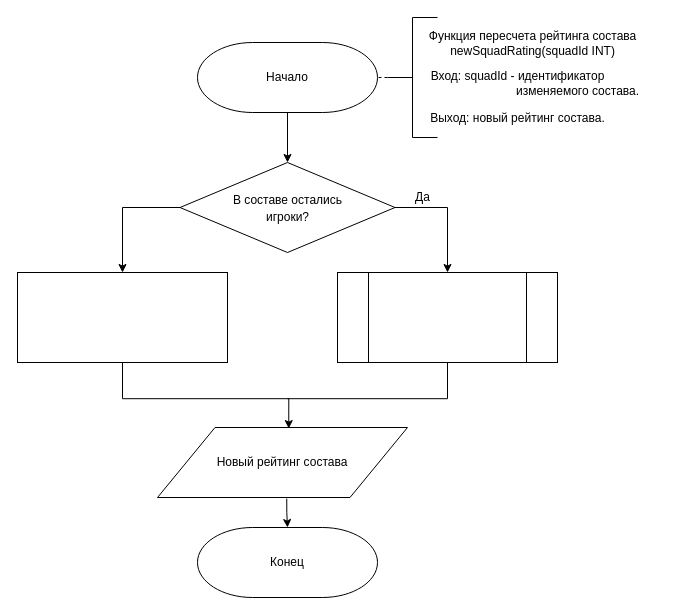
Image size: 680x615. Some labels were removed from this diagram. Each missing label, with the centre of its shape:
Новый рейтинг состава равен 0: point 122,317
Новый рейтинг состава равен среднему рейтингу футболистов в составе: point 447,317
